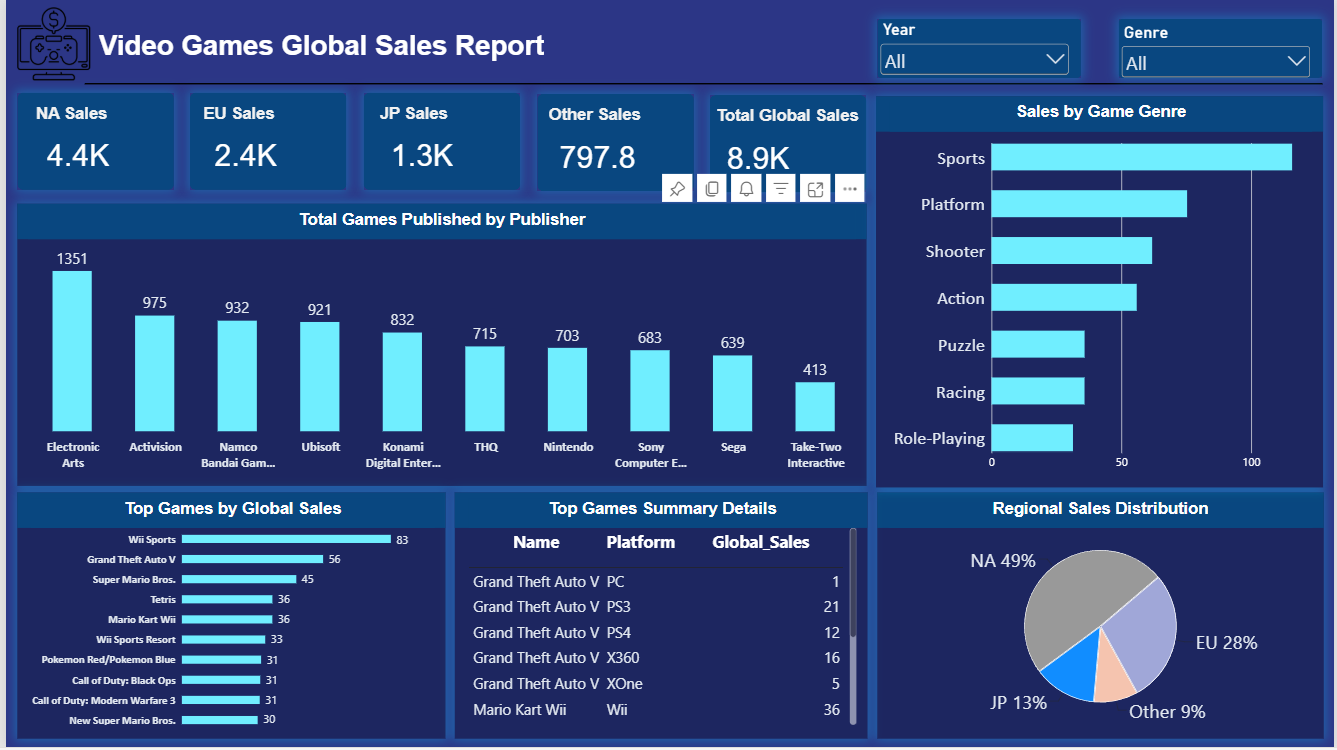

The dashboard page shown, as its layout file describes it:
{"tool":"powerbi","page":{"name":"Page 1","canvas":[1920,1080],"ordinal":0},"visuals":[{"type":"shape","box":[121.4,19.6,689.4,92.4],"z":0},{"type":"shape","box":[16.1,133.9,226.8,141.1],"z":1000},{"type":"cardVisual","title":"NA Sales","fields":{"Data":["Sum(vgsales1.NA_Sales)"]},"box":[42.9,150,155.4,108.9],"z":2000},{"type":"image","box":[16.1,8.9,105.4,108.9],"z":3000},{"type":"shape","box":[266.5,133.9,226.8,141.1],"z":4000},{"type":"shape","box":[517,133.9,226.8,141.1],"z":5000},{"type":"shape","box":[1017.9,137.5,226.8,141.1],"z":6000},{"type":"cardVisual","title":"JP Sales","fields":{"Data":["Sum(vgsales1.JP_Sales)"]},"box":[541.1,150,155.4,108.9],"z":7000},{"type":"cardVisual","title":"EU Sales","fields":{"Data":["Sum(vgsales1.EU_Sales)"]},"box":[285.7,150,155.4,108.9],"z":8000},{"type":"cardVisual","title":"Total Global Sales","fields":{"Data":["Sum(vgsales1.Global_Sales)"]},"box":[1026.8,153.6,210.7,108.9],"z":9000},{"type":"shape","box":[767.4,135.7,226.8,141.1],"z":10000},{"type":"cardVisual","title":"Other Sales","fields":{"Data":["Sum(vgsales1.Other_Sales)"]},"box":[783.9,151.8,210.7,108.9],"z":11000},{"type":"shape","box":[114.3,92.9,1789.6,57.7],"z":12000},{"type":"columnChart","title":"Total Games Published by Publisher","fields":{"Category":["vgsales1.Publisher"],"Y":["CountNonNull(vgsales1.Name)"]},"box":[15.7,294.8,1227.9,408.1],"z":13000},{"type":"clusteredBarChart","title":"Top Games by Global Sales","fields":{"Category":["vgsales1.Name"],"Y":["Sum(vgsales1.Global_Sales)"]},"box":[15.7,711.6,619.2,355.8],"z":14000},{"type":"pieChart","title":"Regional Sales Distribution","fields":{"Y":["Sum(vgsales1.JP_Sales)","Sum(vgsales1.NA_Sales)","Sum(vgsales1.EU_Sales)","Sum(vgsales1.Other_Sales)"]},"box":[1259.3,711.6,645.4,355.8],"z":15000},{"type":"clusteredBarChart","title":"Sales by Game Genre","fields":{"Category":["vgsales1.Genre"],"Y":["Sum(vgsales1.Global_Sales)"]},"box":[1258.5,138.5,646.6,565.7],"z":16000},{"type":"tableEx","title":"Top Games Summary Details","fields":{"Values":["vgsales1.Name","vgsales1.Platform","Sum(vgsales1.Global_Sales)"]},"box":[648.8,711.6,596.5,355.8],"z":17000},{"type":"shape","box":[1258.9,26.8,294.6,85.7],"z":19000},{"type":"slicer","fields":{"Values":["vgsales1.Year"]},"box":[1258.9,28.6,282.1,82.1],"z":20500},{"type":"shape","box":[1608.9,26.8,294.6,85.7],"z":20501},{"type":"slicer","fields":{"Values":["vgsales1.Genre"]},"box":[1608.9,32.1,282.1,82.1],"z":20502}]}

Visuals, with their boxes in screenshot pixels (x1, y1, x2, y2), scaled from the page's 1920x1080 canvas onto the 1337x750 screenshot:
shape: x1=85, y1=14, x2=565, y2=78
shape: x1=11, y1=93, x2=169, y2=191
"NA Sales" cardVisual: x1=30, y1=104, x2=138, y2=180
image: x1=11, y1=6, x2=85, y2=82
shape: x1=186, y1=93, x2=344, y2=191
shape: x1=360, y1=93, x2=518, y2=191
shape: x1=709, y1=95, x2=867, y2=193
"JP Sales" cardVisual: x1=377, y1=104, x2=485, y2=180
"EU Sales" cardVisual: x1=199, y1=104, x2=307, y2=180
"Total Global Sales" cardVisual: x1=715, y1=107, x2=862, y2=182
shape: x1=534, y1=94, x2=692, y2=192
"Other Sales" cardVisual: x1=546, y1=105, x2=693, y2=181
shape: x1=80, y1=65, x2=1326, y2=105
"Total Games Published by Publisher" columnChart: x1=11, y1=205, x2=866, y2=488
"Top Games by Global Sales" clusteredBarChart: x1=11, y1=494, x2=442, y2=741
"Regional Sales Distribution" pieChart: x1=877, y1=494, x2=1326, y2=741
"Sales by Game Genre" clusteredBarChart: x1=876, y1=96, x2=1327, y2=489
"Top Games Summary Details" tableEx: x1=452, y1=494, x2=867, y2=741
shape: x1=877, y1=19, x2=1082, y2=78
slicer - vgsales1.Year: x1=877, y1=20, x2=1073, y2=77
shape: x1=1120, y1=19, x2=1326, y2=78
slicer - vgsales1.Genre: x1=1120, y1=22, x2=1317, y2=79
